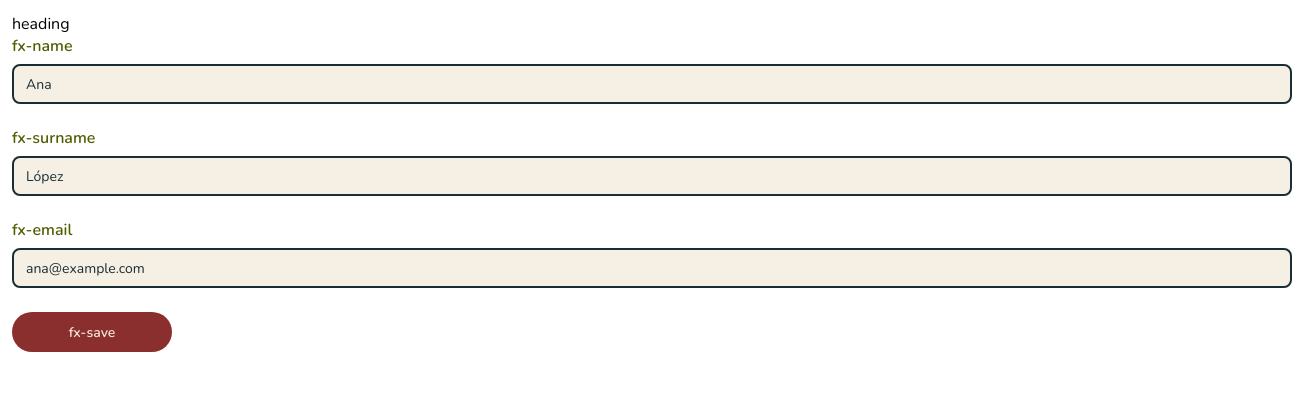
Test: ProfileForm — client checks › an emptied field is sent with no client check blocking it, and its 422 shows genericError
Clear the field labelled "fx-name" at (652, 84), box [12,64,1292,104]
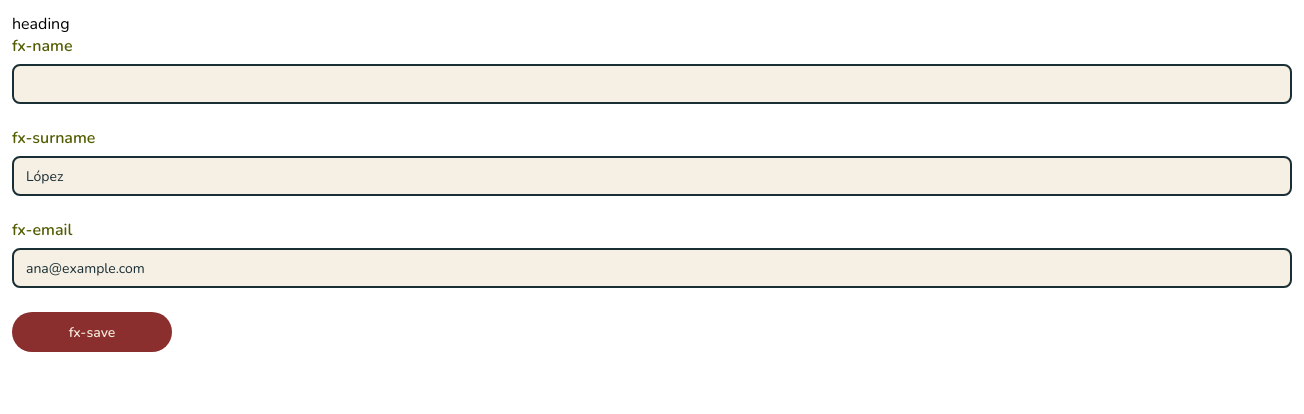
Clear the field labelled "fx-email" at (652, 268), box [12,248,1292,288]
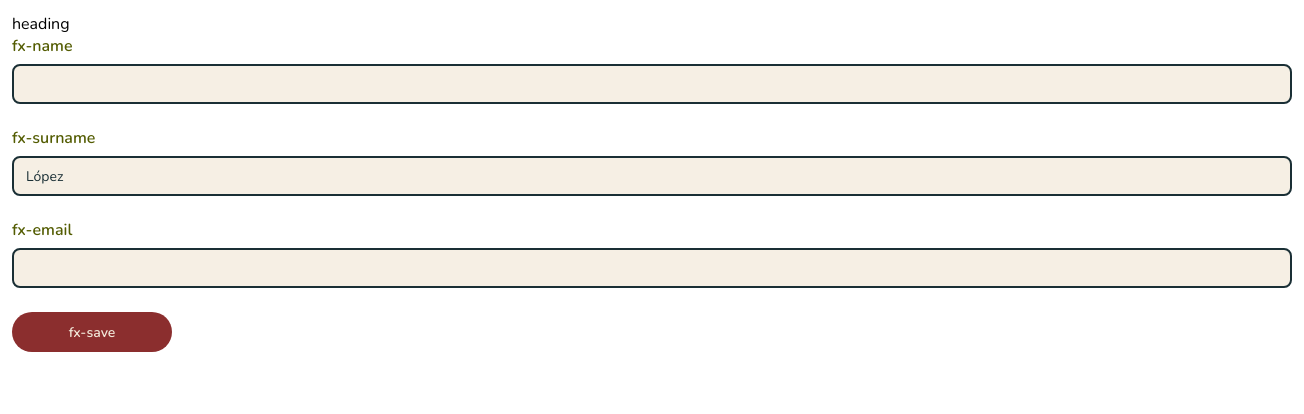
Click the button "fx-save".
click(92, 332)  # box [12,312,172,352]
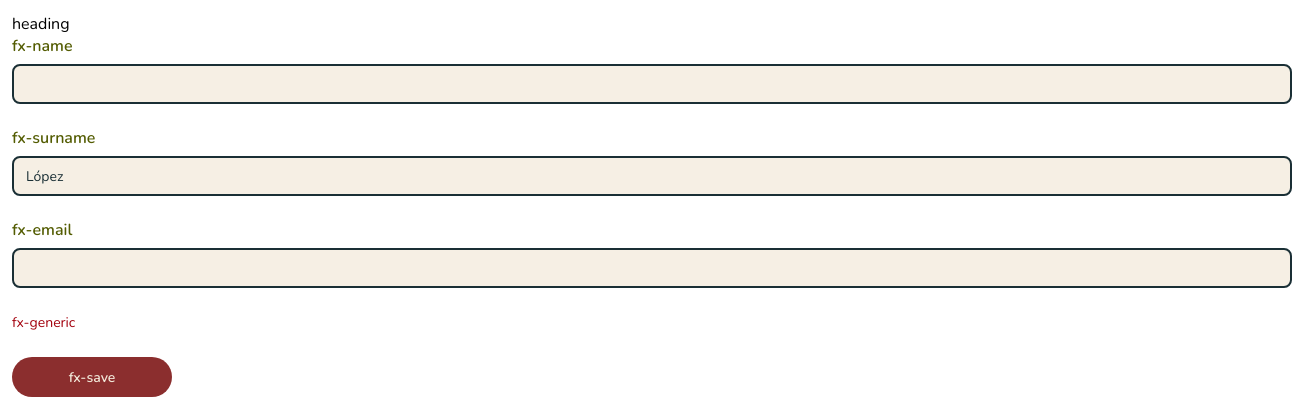
Expected: the message reads "fx-generic", [12,313,75,332]
